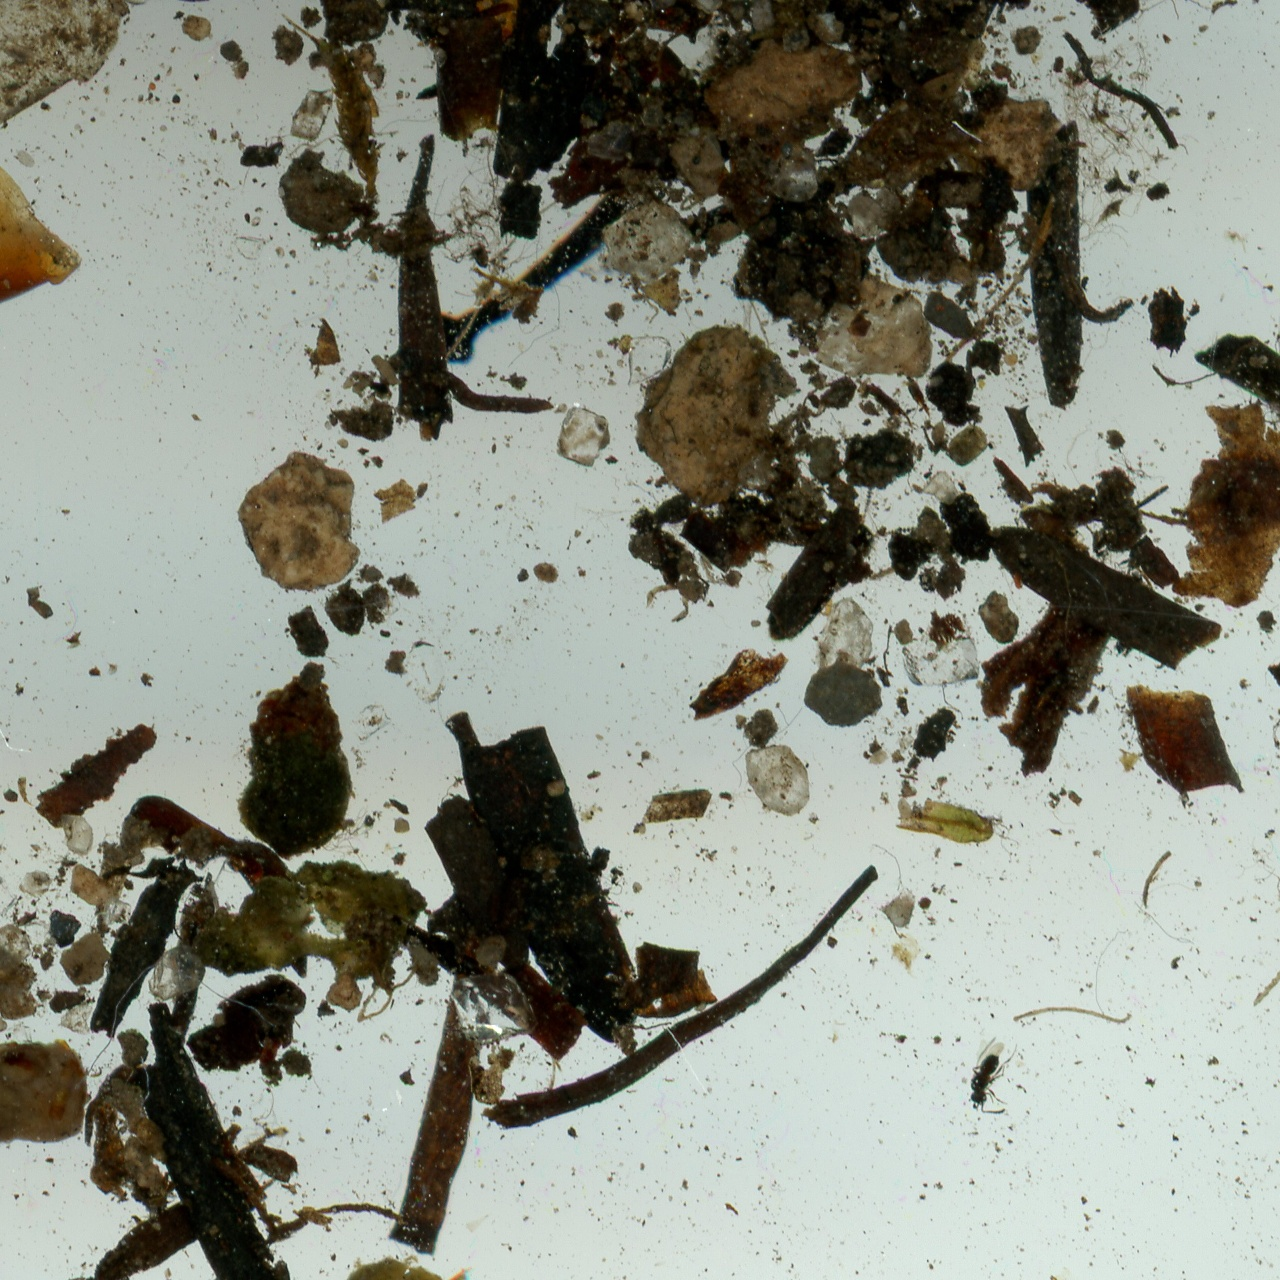arthropod: (967, 1036, 1017, 1115), (468, 241, 490, 270)
